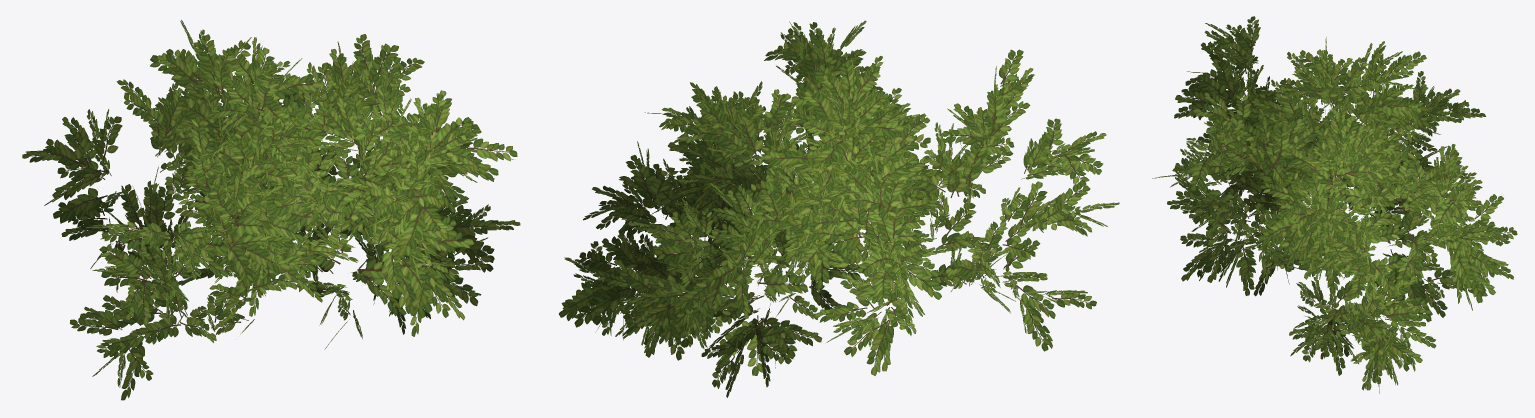
The model's file is SM_Tree_Oak_B_Leaves.glb.
The picture shows the model from 3 angles, left to right: view 1: azimuth 30°, elevation 25°; view 2: azimuth 150°, elevation 25°; view 3: azimuth 270°, elevation 25°; orthographic projection. The views are drawn at different scales.
Visible parts, largest first — view 1: SM_Tree_Oak_B_Leaves; view 2: SM_Tree_Oak_B_Leaves; view 3: SM_Tree_Oak_B_Leaves.
Part boxes in pixels (bbox=[...]): SM_Tree_Oak_B_Leaves: bbox=[22, 20, 520, 400]; SM_Tree_Oak_B_Leaves: bbox=[559, 20, 1119, 397]; SM_Tree_Oak_B_Leaves: bbox=[1152, 16, 1517, 393].
Size of the model in its own units: 11.6 by 7.72 by 9.23.
Materials: 1 (1 with a texture image).
